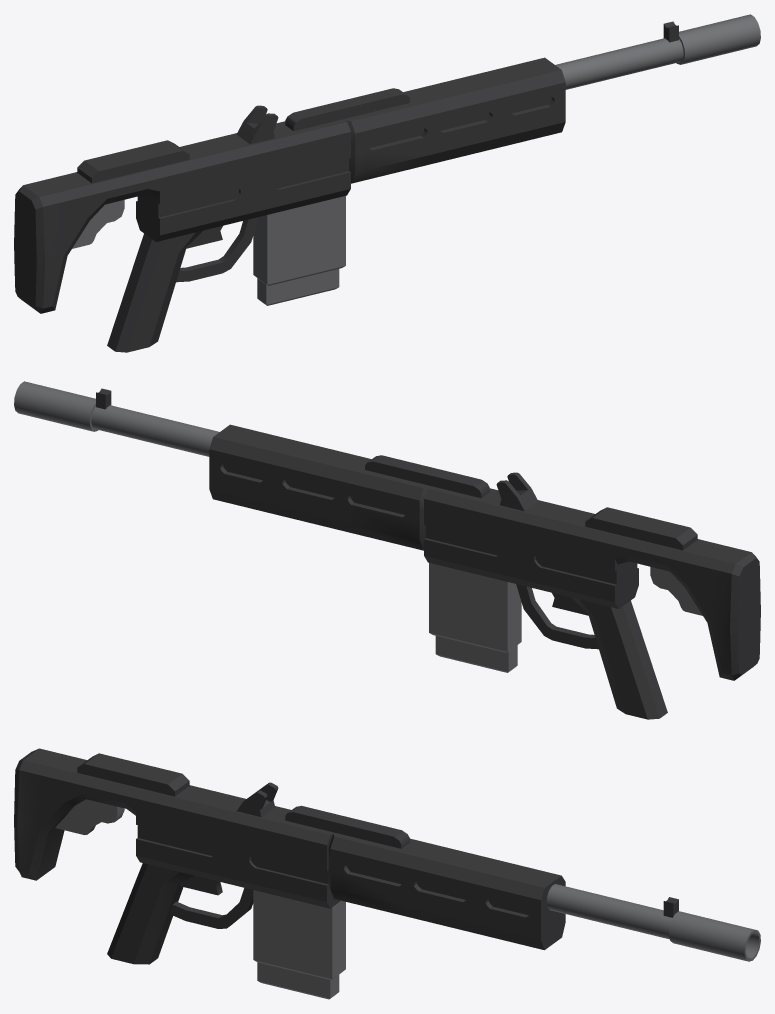
File: DMR Model.fbx
3 renders of one model, top to bottom at view 1: azimuth 30°, elevation 25°; view 2: azimuth 150°, elevation 25°; view 3: azimuth 330°, elevation 25°, orthographic.
Parts seen in each view (by area): view 1: DMR; view 2: DMR; view 3: DMR.
Boxes of the visible parts, box(x1,y1,x2,y2) form: DMR: box(14, 14, 760, 352); DMR: box(14, 381, 760, 719); DMR: box(14, 748, 760, 999).
Size of the model in its own units: 118 by 31.21 by 7.77.
